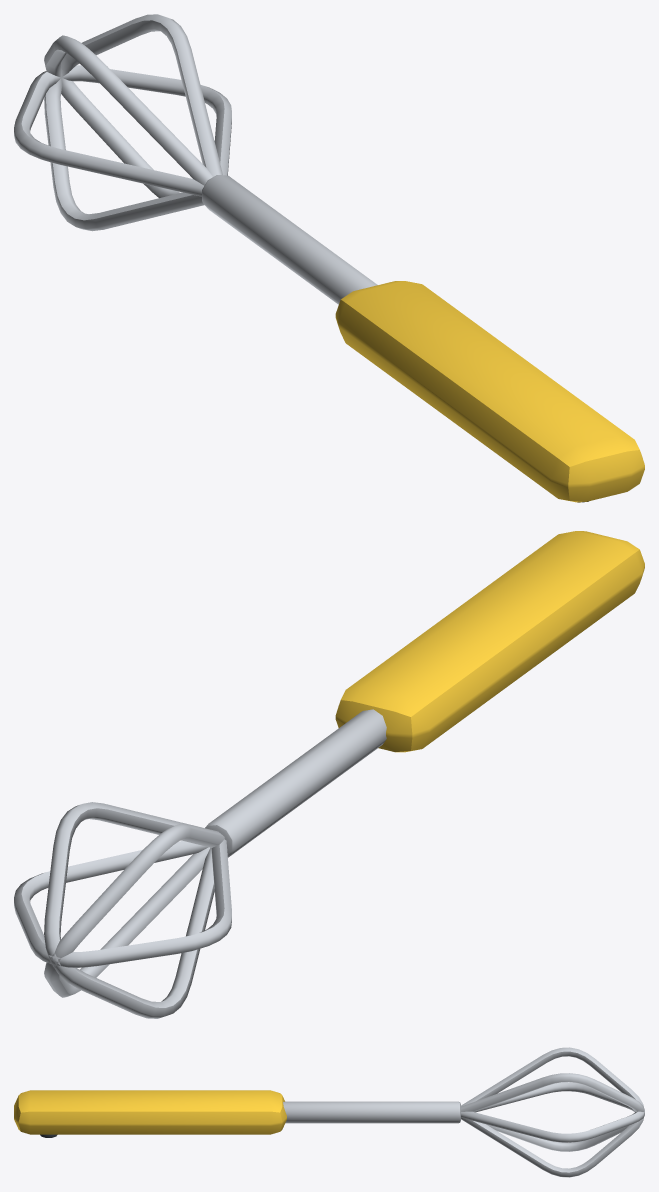
The model's file is batedor_arame.glb.
3 renders of one model, top to bottom at view 1: azimuth 30°, elevation 25°; view 2: azimuth 150°, elevation 25°; view 3: azimuth 270°, elevation 25°, orthographic. The views are drawn at different scales.
Visible parts, largest first — view 1: batedor_arame; view 2: batedor_arame; view 3: batedor_arame.
Boxes of the visible parts, x1,y1,x2,y2 form: batedor_arame: [14, 14, 644, 502]; batedor_arame: [14, 531, 644, 1018]; batedor_arame: [14, 1047, 644, 1177].
Bounding box in the file's own units: 0.0524 × 0.0464 × 0.2542.
1 material, 1 textured.
